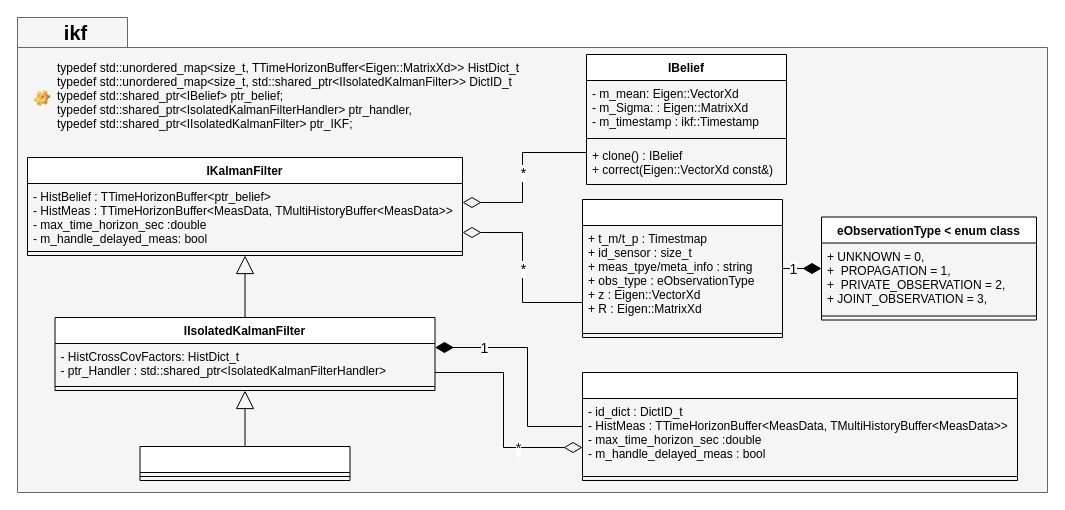
The diagram is 1065 pixels wide and 510 high, and some of its shapes have lost their labels. The shapes that lost their labels are listed below. From the top down, each one's box as (x1, y1, x2, y2) in pixels, then its label:
(582, 198, 782, 338): MeasData
(582, 372, 1018, 480): IsolatedKalmanFilterHandler
(139, 446, 350, 480): Mass_Spring_Damper_1D
